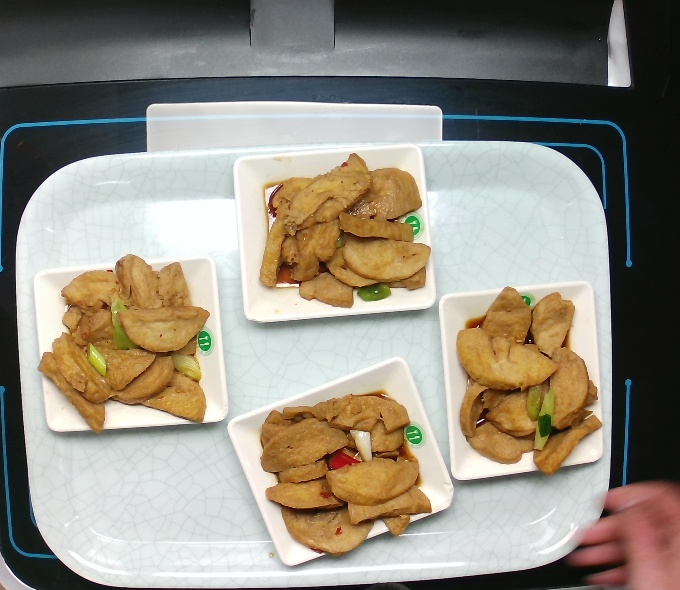wcq-SuJi: (30, 249, 223, 443), (250, 150, 437, 320), (449, 281, 608, 479), (255, 384, 435, 558)
